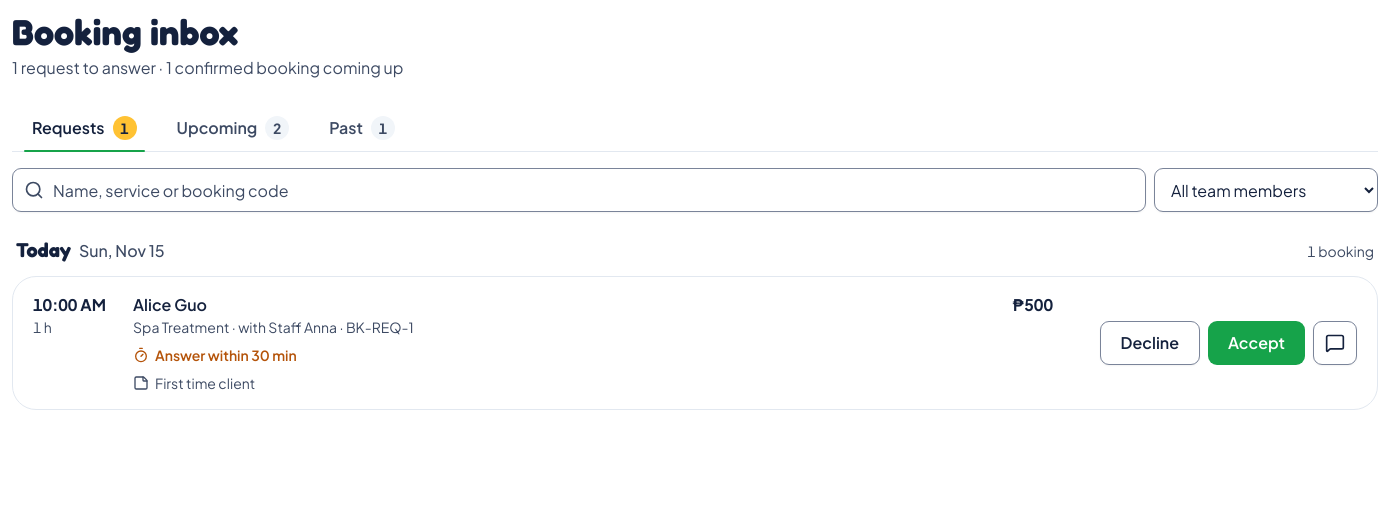
Test: BookingInbox › accepts a request and says who is booked
The image size is (1390, 513).
Click the button "Accept". click: (1256, 343)
box: [1208,321,1305,365]
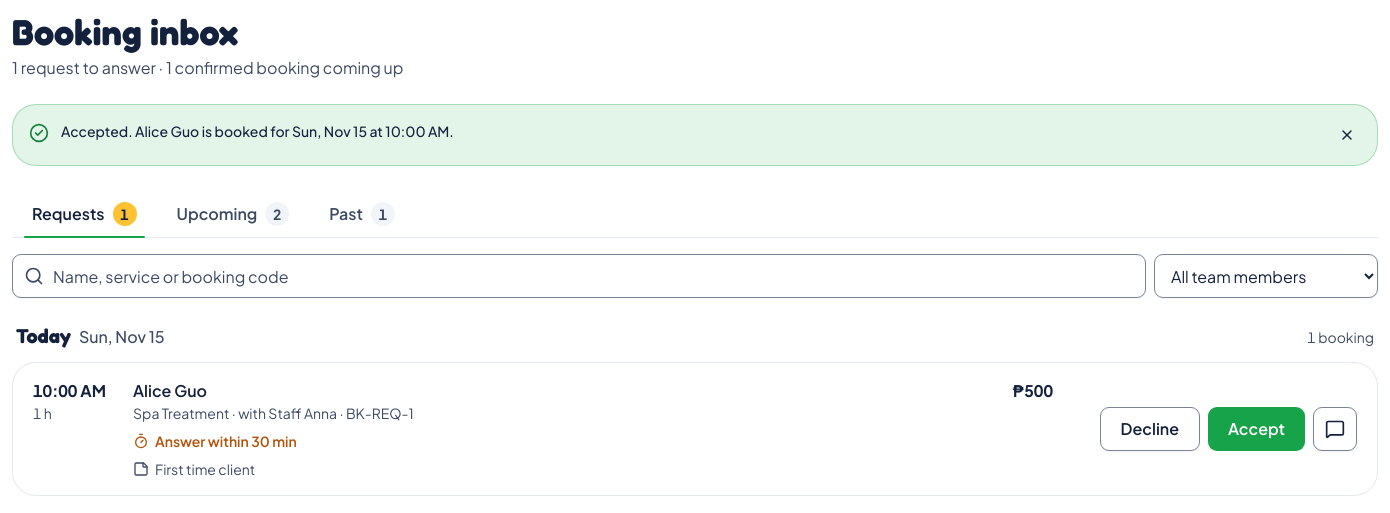
expect the message reads "Accepted. Alice Guo is booked for Sun, Nov 15 at 10:00 AM.": met, box [61,122,454,140]
